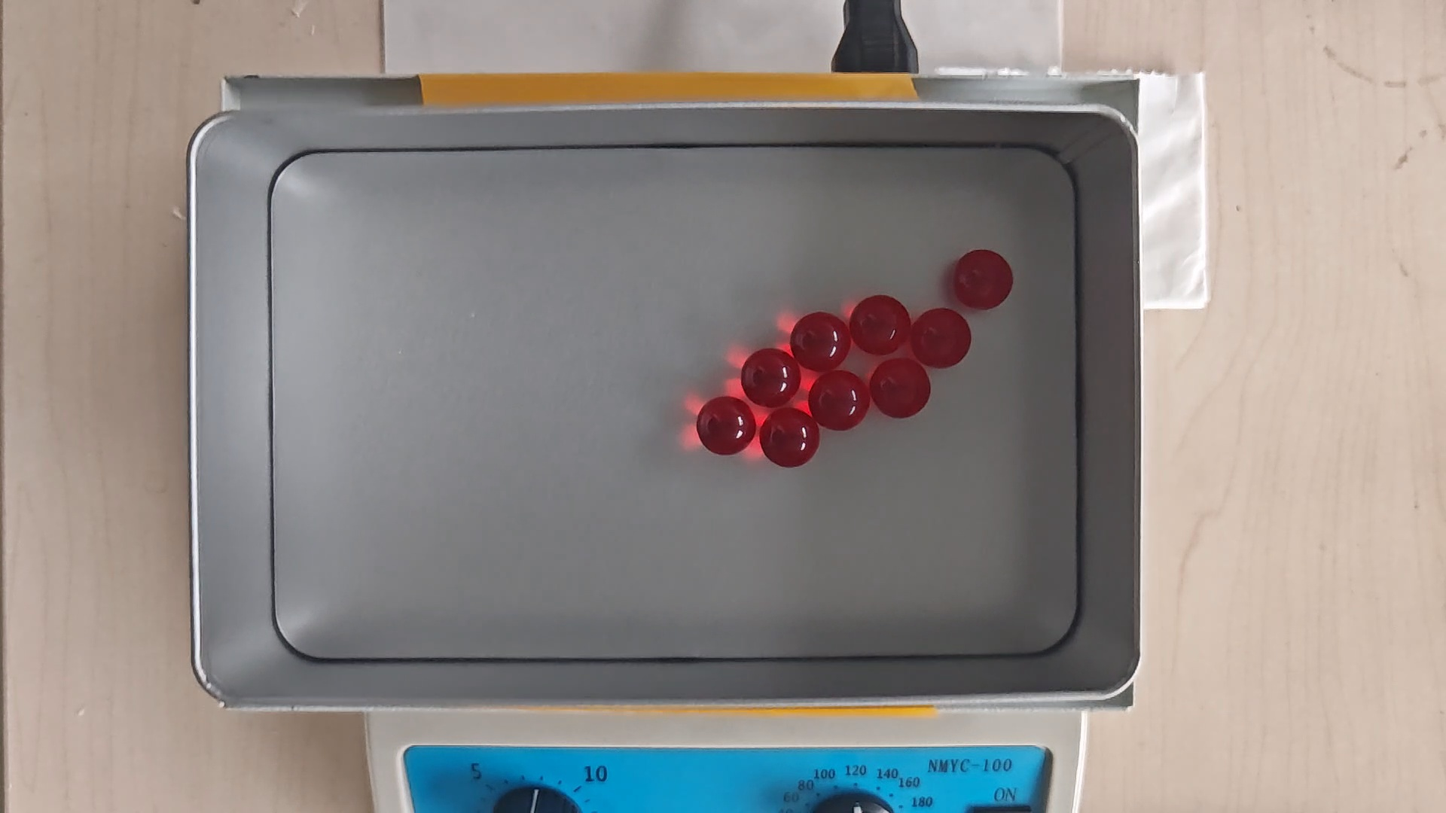ball: (870, 358, 931, 420), (910, 307, 972, 368), (953, 249, 1014, 310), (810, 370, 870, 432), (696, 396, 756, 456), (791, 311, 850, 372), (759, 408, 818, 469), (851, 296, 910, 356), (742, 347, 799, 406)
container: (271, 145, 1078, 660)
